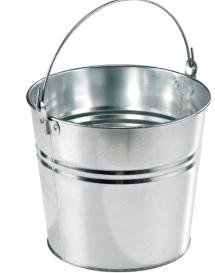SEAU: (0, 2, 215, 273)
